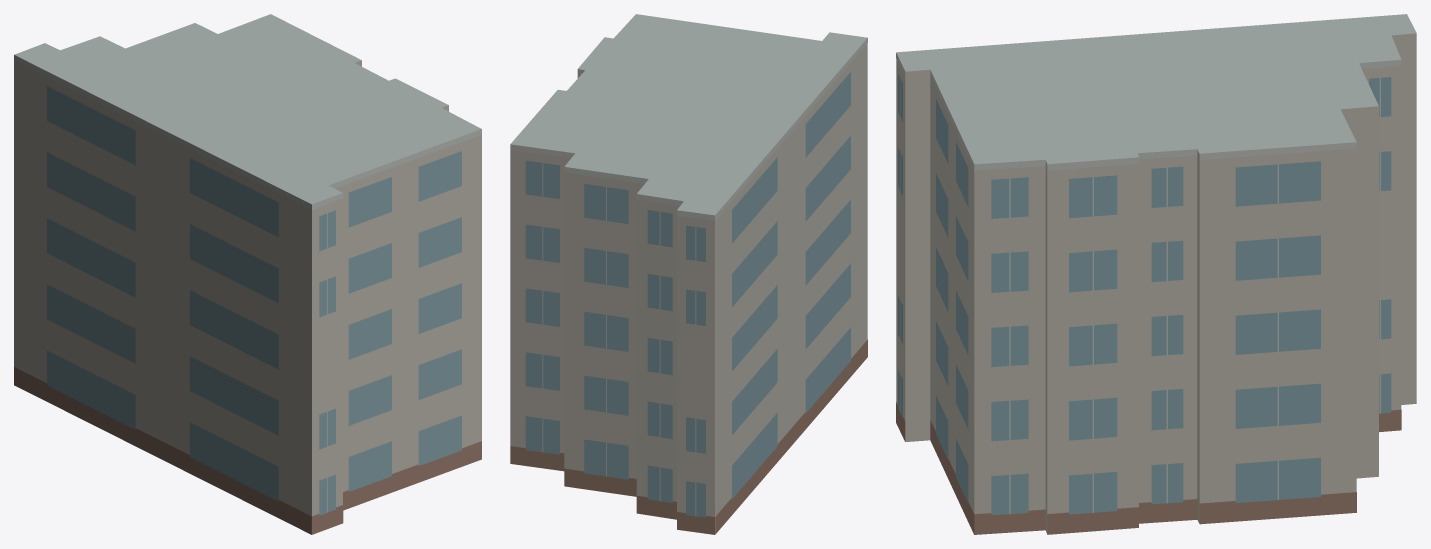
The model's file is survey-upis-32532979.glb.
The picture shows the model from 3 angles, left to right: view 1: azimuth 30°, elevation 25°; view 2: azimuth 150°, elevation 25°; view 3: azimuth 270°, elevation 25°; orthographic projection. The views are drawn at different scales.
Visible parts, largest first — view 1: survey-upis-32532979.tmp; view 2: survey-upis-32532979.tmp; view 3: survey-upis-32532979.tmp.
Boxes of the visible parts, x1,y1,x2,y2 form: survey-upis-32532979.tmp: (14,14,481,534); survey-upis-32532979.tmp: (510,14,867,534); survey-upis-32532979.tmp: (896,14,1416,534).
Bounding box in the file's own units: 12.45 × 14.3 × 18.22.
